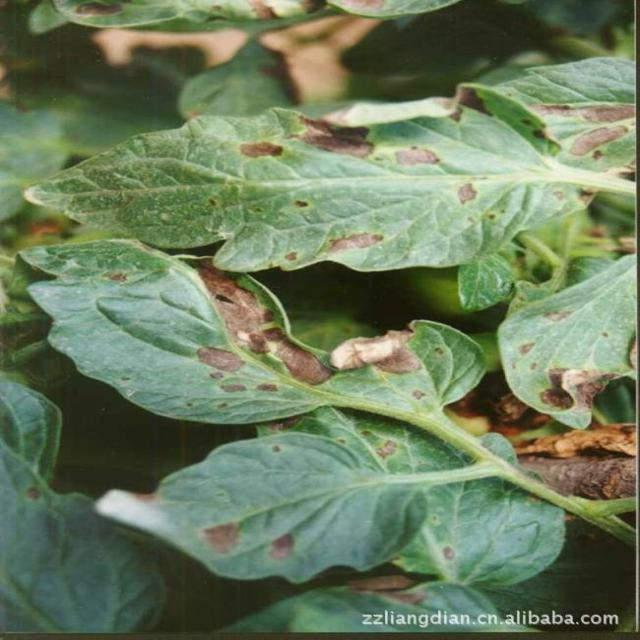Early_blight: (179, 256, 331, 395), (516, 419, 640, 502), (527, 99, 637, 158), (331, 320, 425, 379), (286, 104, 378, 160), (540, 360, 625, 418), (429, 81, 495, 124), (198, 518, 243, 556), (329, 226, 384, 256), (390, 140, 442, 170), (236, 137, 285, 160), (266, 531, 295, 561), (456, 179, 478, 205)
